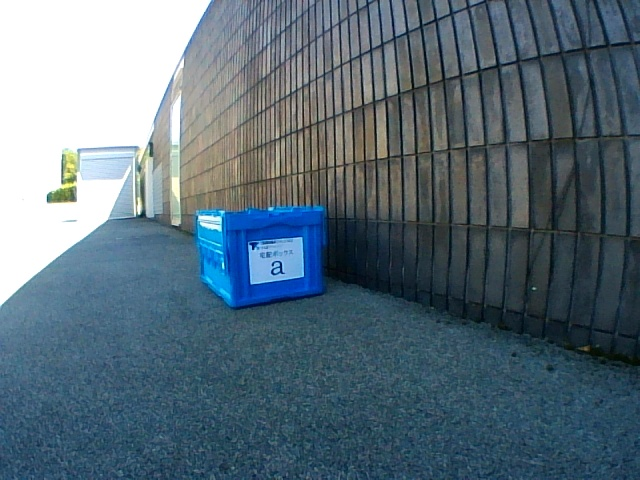blue_box: (196, 207, 324, 307)
tag_a: (253, 243, 297, 277)
